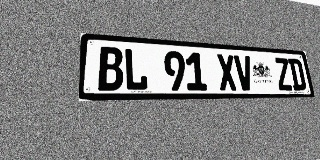1: (184, 52, 207, 91)
9: (164, 50, 187, 91)
B: (98, 46, 124, 91)
D: (288, 58, 307, 90)
L: (124, 48, 148, 91)
V: (234, 55, 255, 90)
X: (216, 54, 238, 91)
Z: (274, 57, 293, 90)
